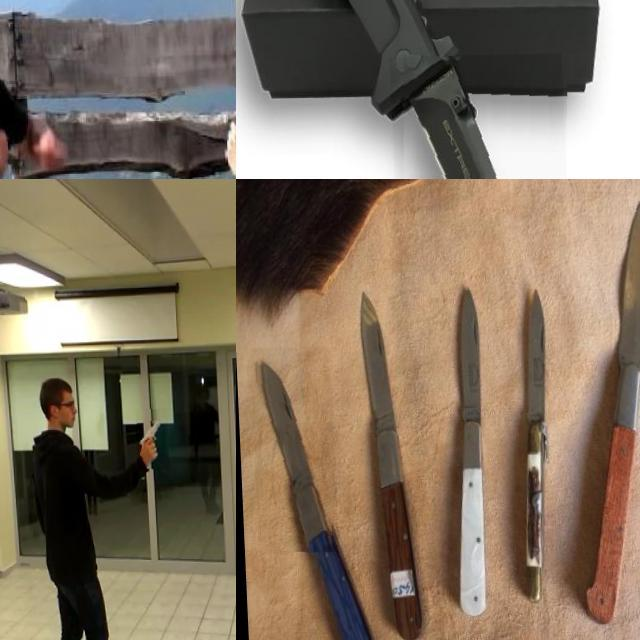-: (387, 55, 571, 179), (248, 348, 336, 554), (354, 278, 411, 511), (594, 187, 640, 443), (443, 278, 488, 491), (510, 284, 550, 476), (0, 127, 14, 179)
gun-knife-thesis - v11 Yolov5 augmented: (132, 410, 166, 471)
